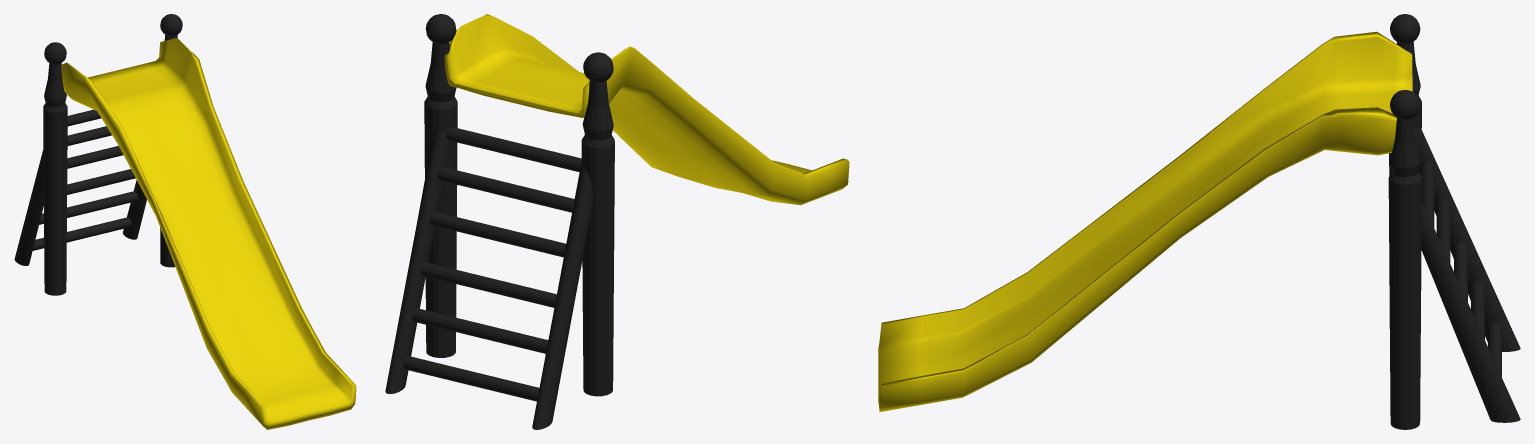
Rendered from slide.fbx.
3 views of the same model, side by side, from view 1: azimuth 30°, elevation 25°; view 2: azimuth 150°, elevation 25°; view 3: azimuth 270°, elevation 25° (orthographic). The views are drawn at different scales.
Parts seen in each view (by area): view 1: slide, stairs, stairs.002, stairs.001; view 2: slide, stairs, stairs.002, stairs.001; view 3: slide, stairs, stairs.001, stairs.002.
Part boxes in pixels (left/top/right/bottom): slide: left=61, top=38, right=356, bottom=429; stairs: left=43, top=14, right=182, bottom=295; stairs.002: left=32, top=109, right=138, bottom=250; stairs.001: left=14, top=150, right=146, bottom=265; slide: left=444, top=14, right=849, bottom=205; stairs: left=424, top=14, right=614, bottom=396; stairs.002: left=403, top=127, right=581, bottom=401; stairs.001: left=385, top=128, right=592, bottom=429; slide: left=878, top=31, right=1412, bottom=411; stairs: left=1388, top=14, right=1421, bottom=429; stairs.001: left=1415, top=126, right=1520, bottom=422; stairs.002: left=1414, top=127, right=1501, bottom=377.
Size of the model in its own units: 287 by 496 by 868.
